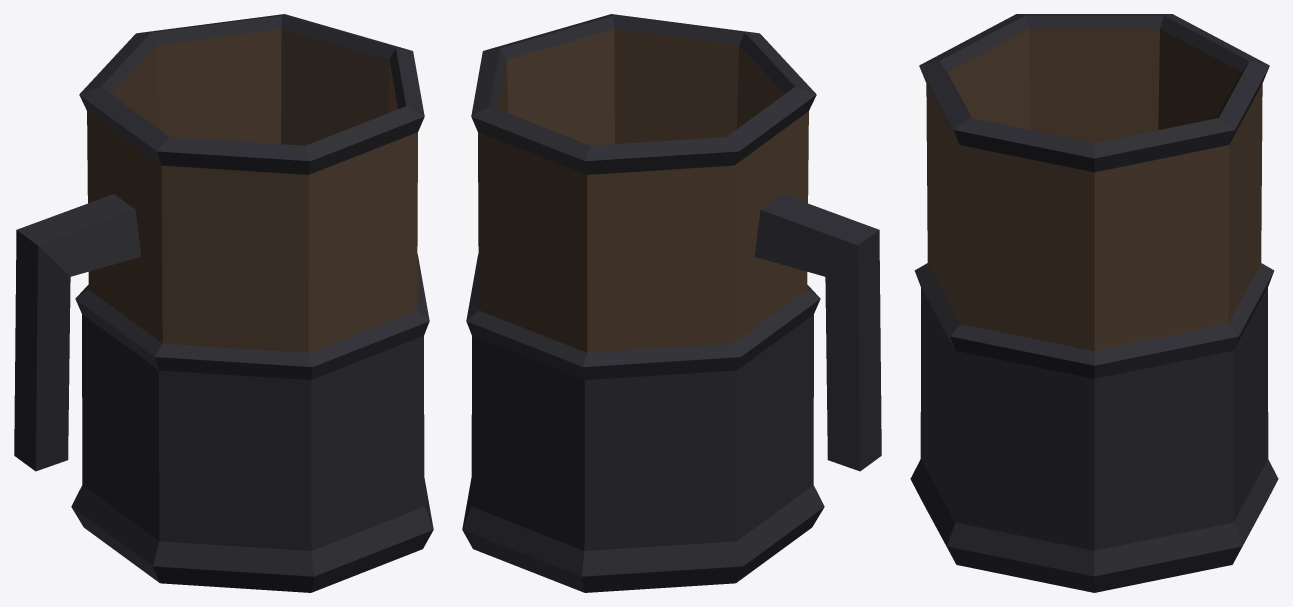
The model's file is Cup_1.fbx.
The picture shows the model from 3 angles, left to right: view 1: azimuth 30°, elevation 25°; view 2: azimuth 150°, elevation 25°; view 3: azimuth 270°, elevation 25°; orthographic projection.
Visible parts, largest first — view 1: polySurface1934; view 2: polySurface1934; view 3: polySurface1934.
Part boxes in pixels (x1,y1,x2,y2): polySurface1934: (14,14,433,592); polySurface1934: (462,14,881,592); polySurface1934: (910,14,1278,592).
Size of the model in its own units: 28.15 by 29.86 by 22.54.
